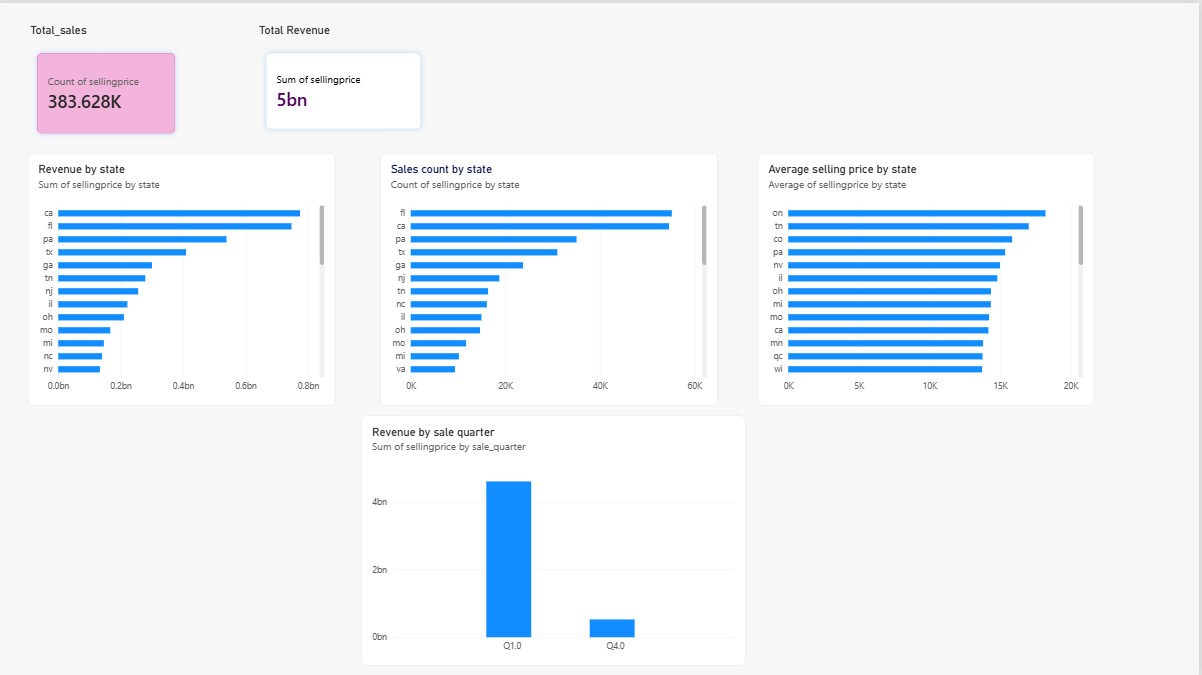

What the dashboard file says about the page in this screenshot:
{"tool":"powerbi","page":{"name":"Regional analysis","canvas":[1920,1080],"ordinal":2},"visuals":[{"type":"cardVisual","title":"Total_sales","fields":{"Data":["CountNonNull(car_prices_cleaned.sellingprice)"]},"box":[50,31.7,243.3,188.3],"z":0},{"type":"cardVisual","title":"Total Revenue","fields":{"Data":["Sum(car_prices_cleaned.sellingprice)"]},"box":[610,31.7,270,181.7],"z":1},{"type":"clusteredBarChart","title":"Revenue by state","fields":{"Category":["car_prices_cleaned.state"],"Y":["Sum(car_prices_cleaned.sellingprice)"]},"box":[46.7,273.3,491.7,318.3],"z":2},{"type":"clusteredBarChart","title":"Sales count by state","fields":{"Category":["car_prices_cleaned.state"],"Y":["CountNonNull(car_prices_cleaned.sellingprice)"]},"box":[610,273.3,540,318.3],"z":3},{"type":"clusteredBarChart","title":"Average selling price by state","fields":{"Category":["car_prices_cleaned.state"],"Y":["Avg(car_prices_cleaned.sellingprice)"]},"box":[1213.3,273.3,506.7,318.3],"z":4},{"type":"clusteredColumnChart","title":"Revenue by sale quarter","fields":{"Category":["car_prices_cleaned.sale_quarter"],"Y":["Sum(car_prices_cleaned.sellingprice)"]},"box":[610,616.7,540,300],"z":5}]}

Visuals, with their boxes in screenshot pixels (x1, y1, x2, y2), scaled from the page's 1920x1080 canvas onto the 1202x675 screenshot:
"Total_sales" cardVisual: x1=31, y1=20, x2=184, y2=138
"Total Revenue" cardVisual: x1=382, y1=20, x2=551, y2=133
"Revenue by state" clusteredBarChart: x1=29, y1=171, x2=337, y2=370
"Sales count by state" clusteredBarChart: x1=382, y1=171, x2=720, y2=370
"Average selling price by state" clusteredBarChart: x1=760, y1=171, x2=1077, y2=370
"Revenue by sale quarter" clusteredColumnChart: x1=382, y1=385, x2=720, y2=573
